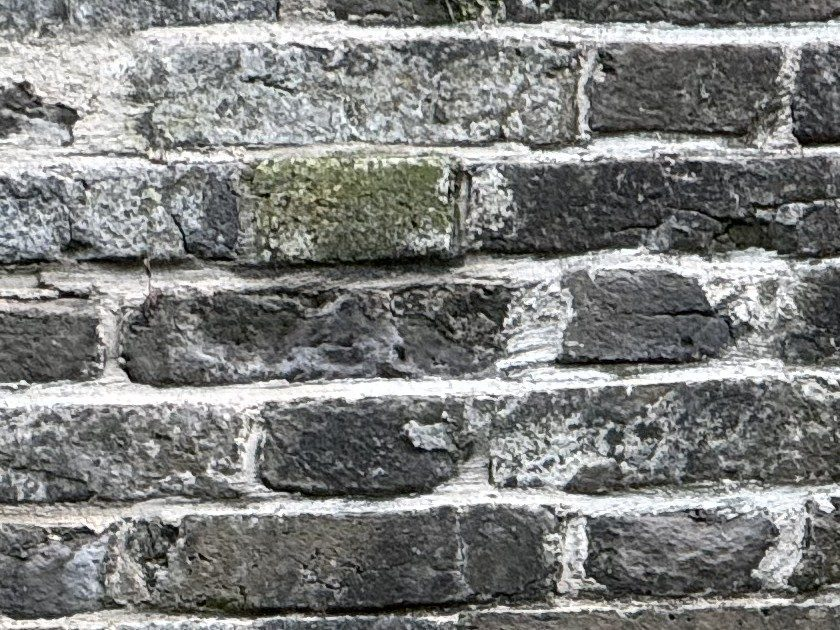vegetation: (245, 143, 471, 268)
